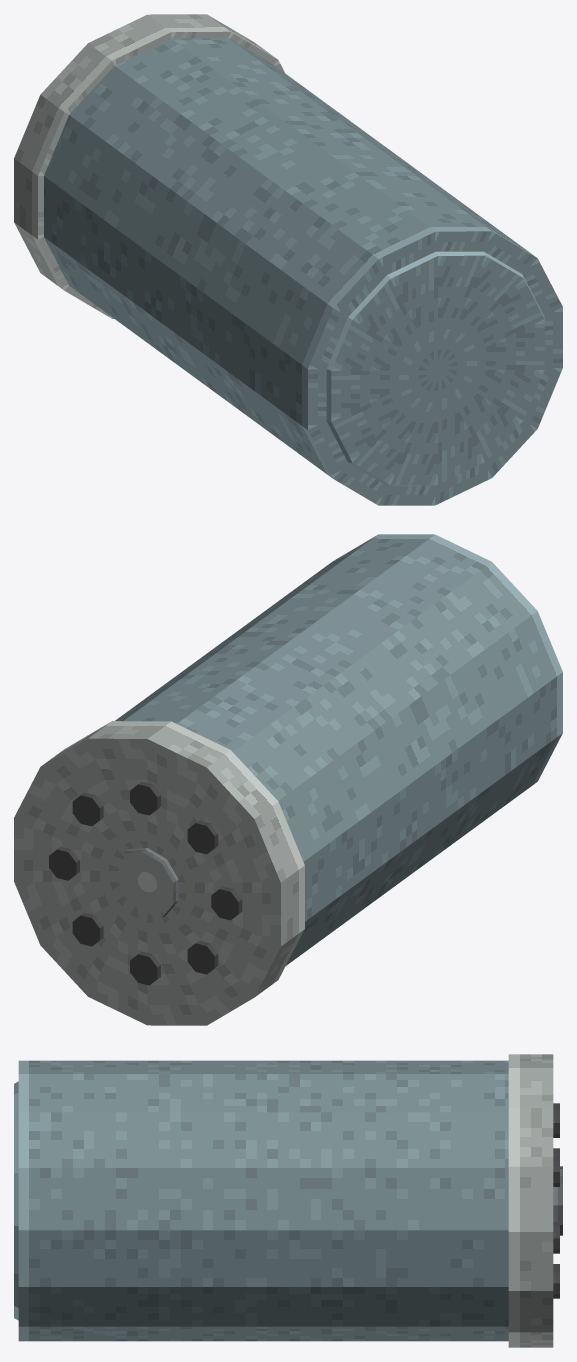
Rendered from filter_liquid.glb.
3 views of the same model, one above another, from view 1: azimuth 30°, elevation 25°; view 2: azimuth 150°, elevation 25°; view 3: azimuth 270°, elevation 25° (orthographic). The views are drawn at different scales.
Visible parts, largest first — view 1: block_steel oil filter can, block_closed domed end, block_rolled seam; view 2: block_steel oil filter can, block_rolled seam, block_dark inlet recess (×8); view 3: block_steel oil filter can, block_rolled seam, block_closed domed end, block_threaded center recess.
Boxes of the visible parts, x1=… form: block_steel oil filter can: x1=44, y1=38, x2=562, y2=505; block_closed domed end: x1=326, y1=251, x2=544, y2=485; block_rolled seam: x1=14, y1=14, x2=285, y2=318; block_steel oil filter can: x1=115, y1=534, x2=562, y2=965; block_rolled seam: x1=14, y1=721, x2=304, y2=1025; block_dark inlet recess (×8): x1=49, y1=781, x2=242, y2=985; block_steel oil filter can: x1=18, y1=1060, x2=508, y2=1341; block_rolled seam: x1=508, y1=1054, x2=553, y2=1347; block_closed domed end: x1=14, y1=1081, x2=18, y2=1320; block_threaded center recess: x1=553, y1=1166, x2=562, y2=1235.
Bounding box in the file's own units: 0.1059 × 0.1086 × 0.2033.
Materials: 2 (2 with a texture image).
